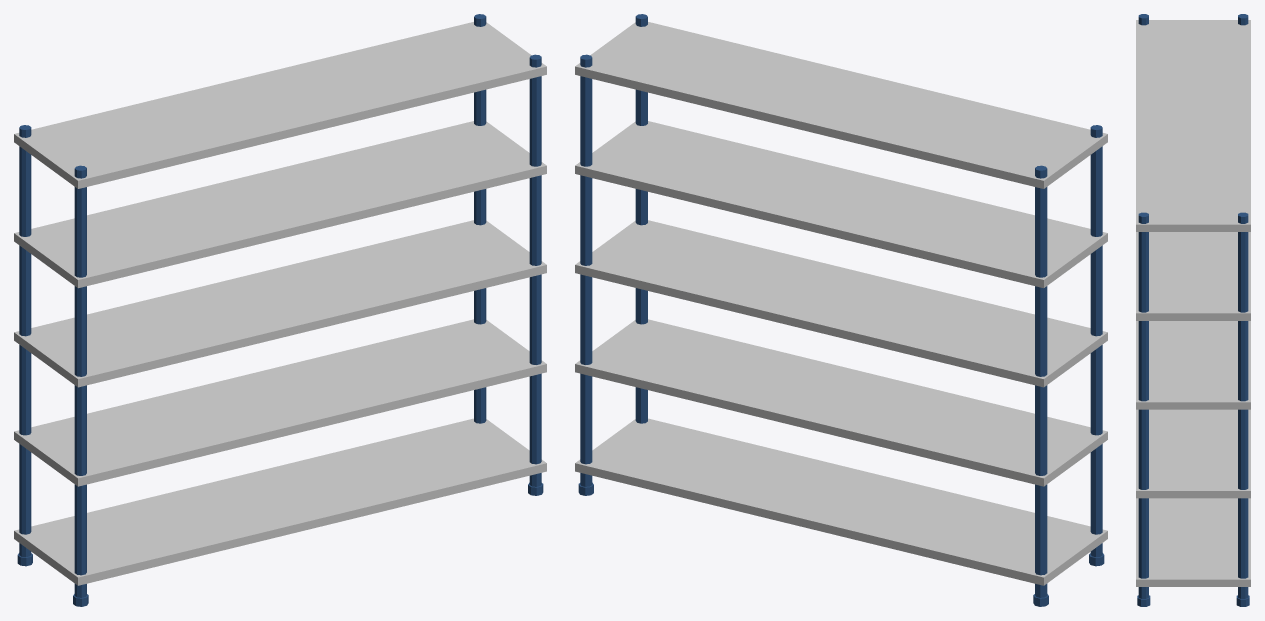
The model's file is SM_Props_Rack_01.glb.
The picture shows the model from 3 angles, left to right: view 1: azimuth 30°, elevation 25°; view 2: azimuth 150°, elevation 25°; view 3: azimuth 270°, elevation 25°; orthographic projection. The views are drawn at different scales.
Parts seen in each view (by area): view 1: SM_Props_Rack_01; view 2: SM_Props_Rack_01; view 3: SM_Props_Rack_01.
Part boxes in pixels (x1,y1,x2,y2): SM_Props_Rack_01: (14, 14, 546, 606); SM_Props_Rack_01: (575, 14, 1107, 606); SM_Props_Rack_01: (1136, 14, 1250, 606).
Size of the model in its own units: 2.44 by 2.16 by 0.5767.
1 material, 1 textured.
